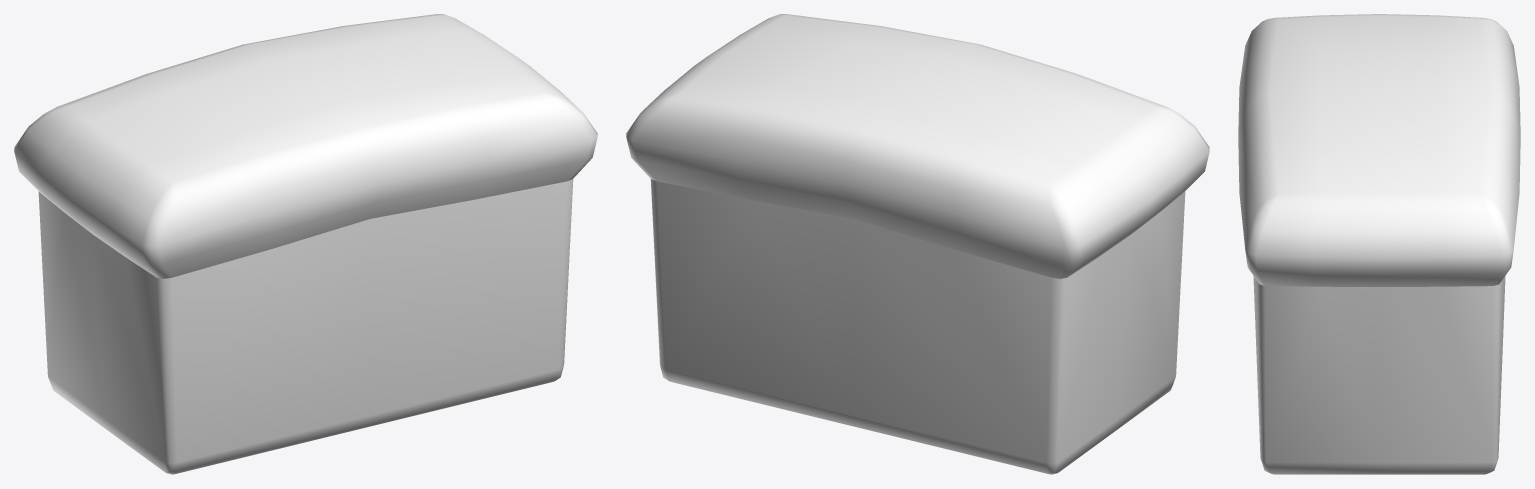
Rendered from Toast_bread.fbx.
3 renders of one model, left to right at view 1: azimuth 30°, elevation 25°; view 2: azimuth 150°, elevation 25°; view 3: azimuth 270°, elevation 25°, orthographic. The views are drawn at different scales.
Parts seen in each view (by area): view 1: Toast_bread; view 2: Toast_bread; view 3: Toast_bread.
Part boxes in pixels (bbox=[...]): Toast_bread: bbox=[14, 14, 597, 474]; Toast_bread: bbox=[626, 14, 1209, 474]; Toast_bread: bbox=[1238, 14, 1520, 474].
Size of the model in its own units: 204 by 110 by 128.
